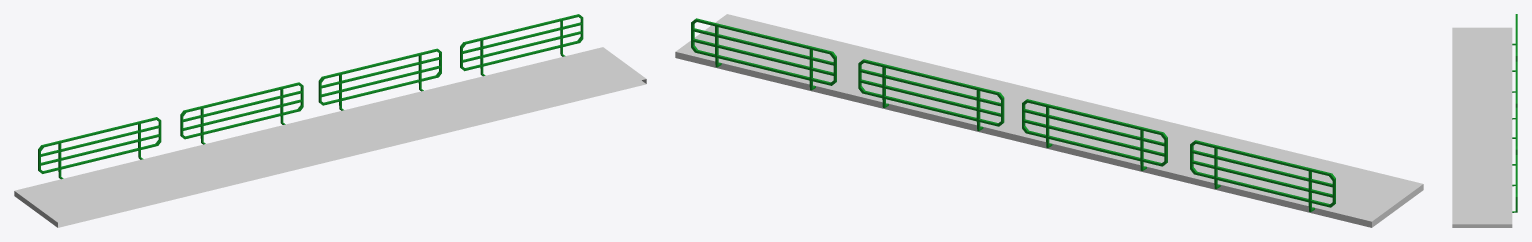
Rendered from rambarde.fbx.
3 views of the same model, side by side, from view 1: azimuth 30°, elevation 25°; view 2: azimuth 150°, elevation 25°; view 3: azimuth 270°, elevation 25° (orthographic). The views are drawn at different scales.
Parts seen in each view (by area): view 1: Passerelle; view 2: Passerelle; view 3: Passerelle.
Part boxes in pixels (x1,y1,x2,y2): Passerelle: (14,14,646,227); Passerelle: (675,14,1423,227); Passerelle: (1452,14,1517,227).
Bounding box in the file's own units: 19.29 × 1.27 × 2.7.
